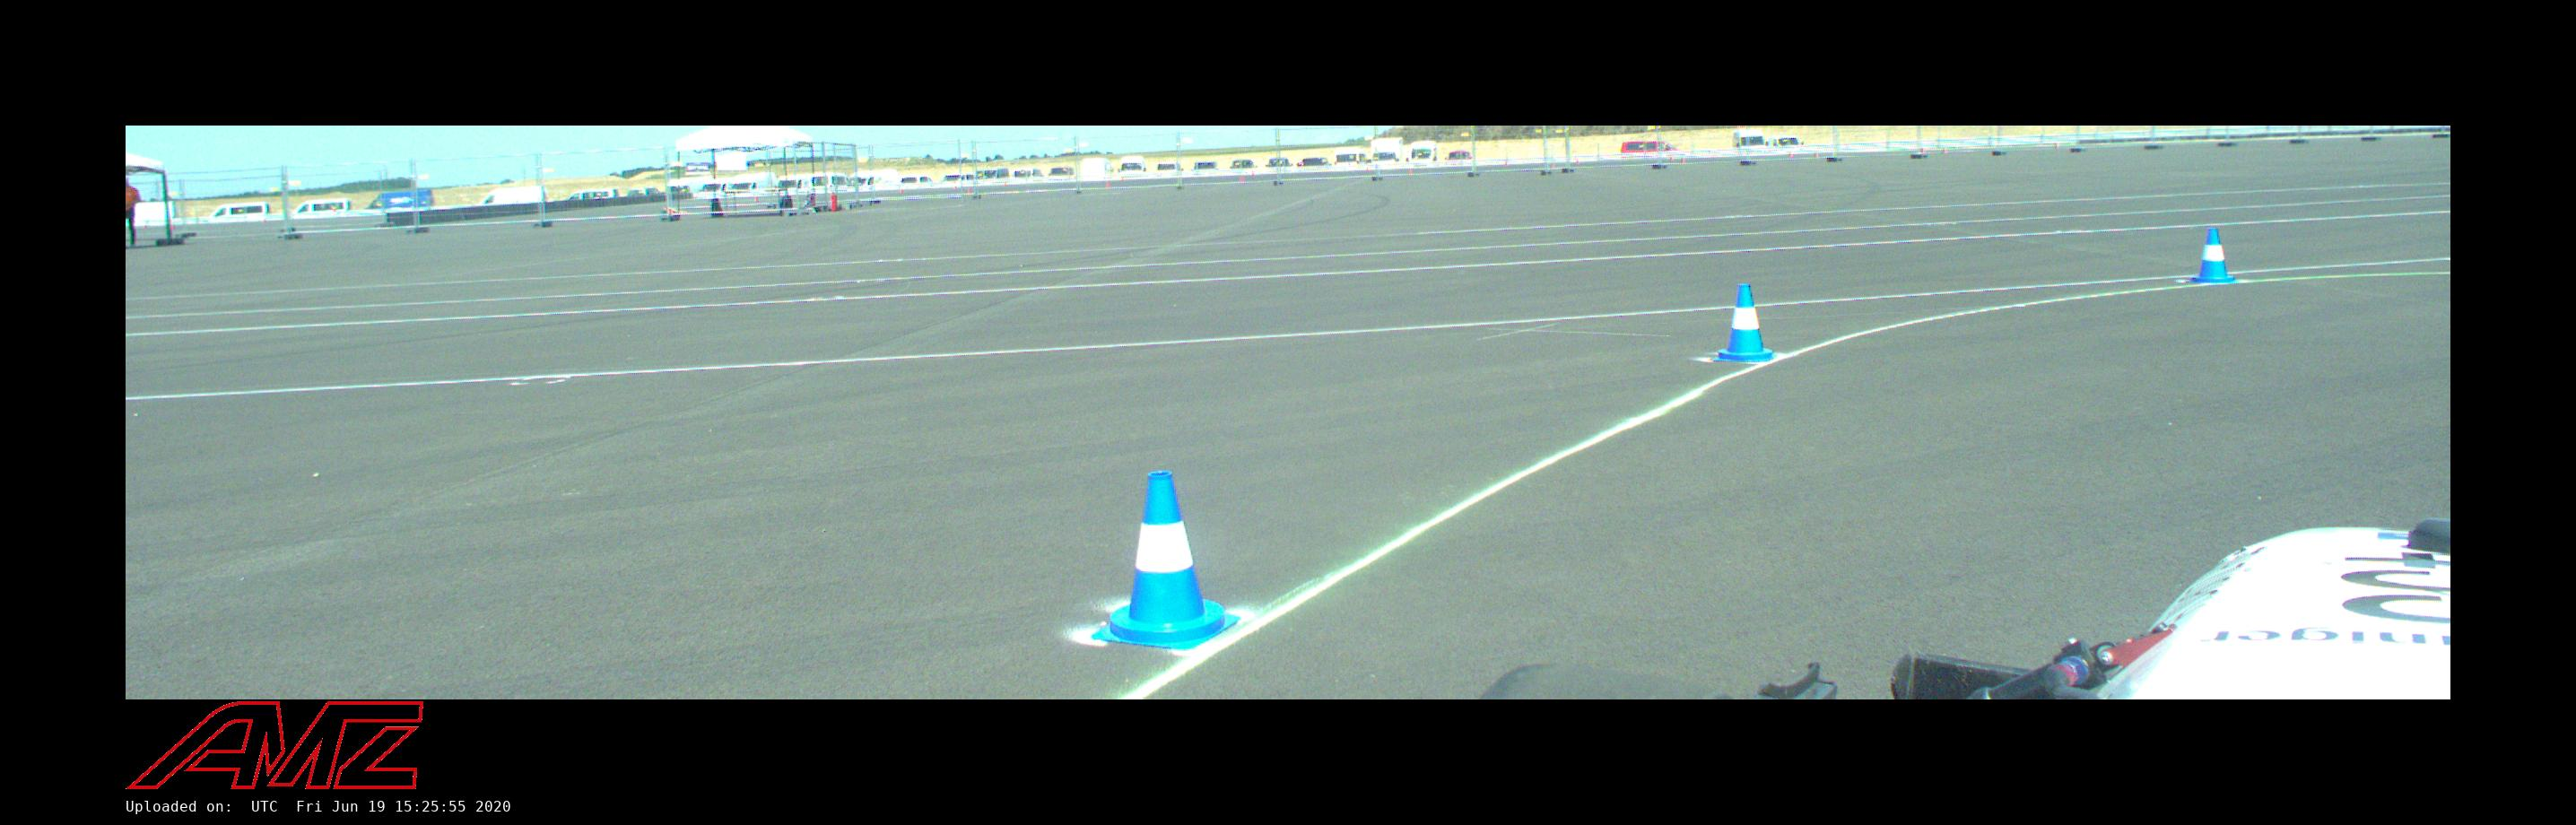blue_cone: (1091, 472, 1240, 649), (1712, 286, 1778, 362), (2188, 228, 2238, 283)
